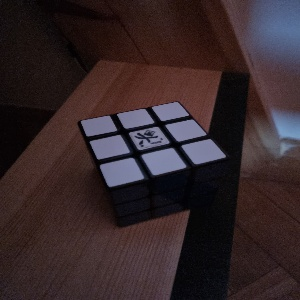cube: (76, 101, 227, 229)
